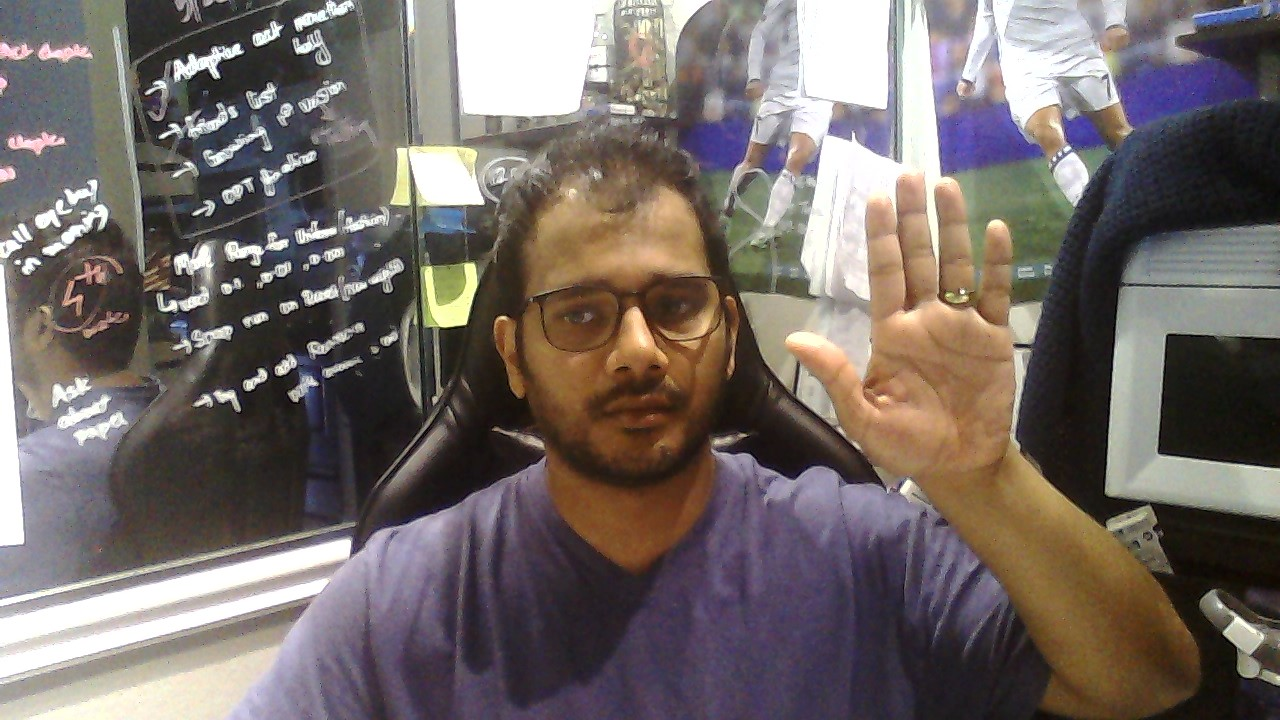Hello: (785, 169, 1017, 474)
